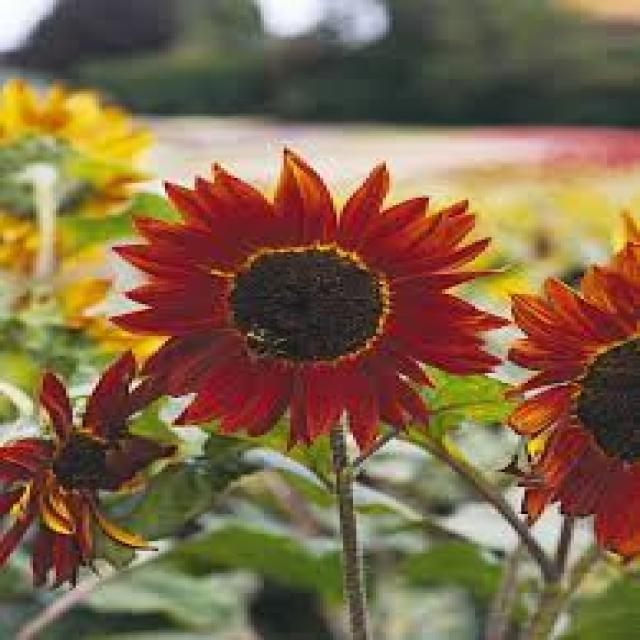sunflower: (102, 146, 508, 454), (0, 348, 198, 590), (505, 238, 637, 564), (3, 88, 143, 270)
